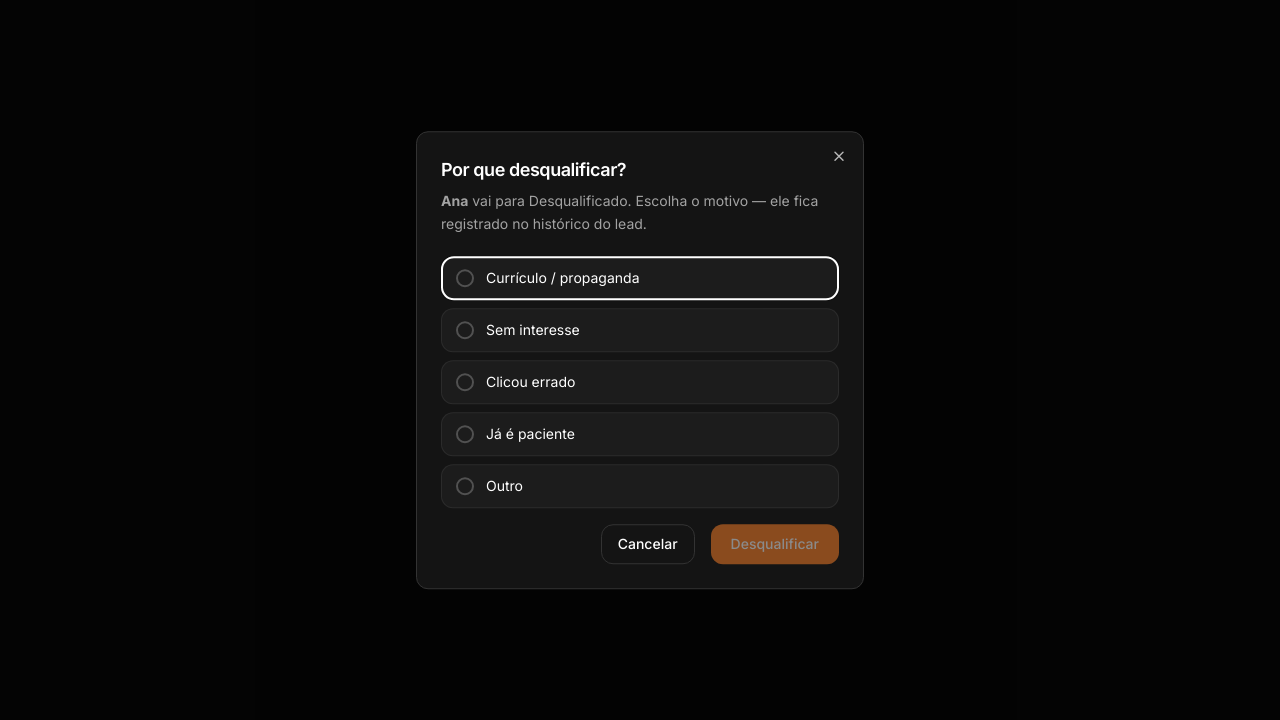
diálogo do motivo › só confirma com um motivo escolhido; 'Outro' exige texto
Later steps or results of the test are not shown.
expect the button "Desqualificar" is disabled: met, box top-left (711, 524), bottom-right (839, 564)
Click the radio button labelled "Outro" at x=504, y=485, box top-left (441, 464), bottom-right (839, 508)
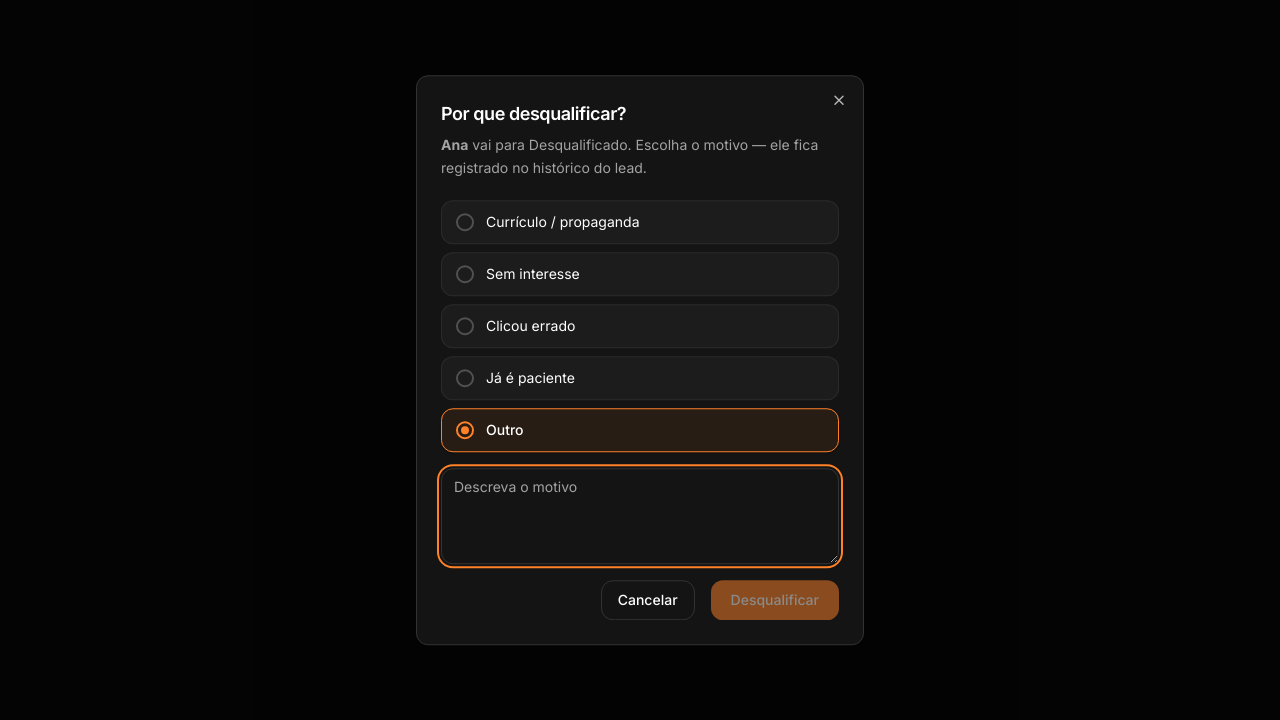
expect the button "Desqualificar" is disabled: met, box top-left (711, 580), bottom-right (839, 620)
Type "Número de outra cidade" into the text box with placeholder "Descreva o motivo" at x=640, y=516, box top-left (441, 468), bottom-right (839, 564)
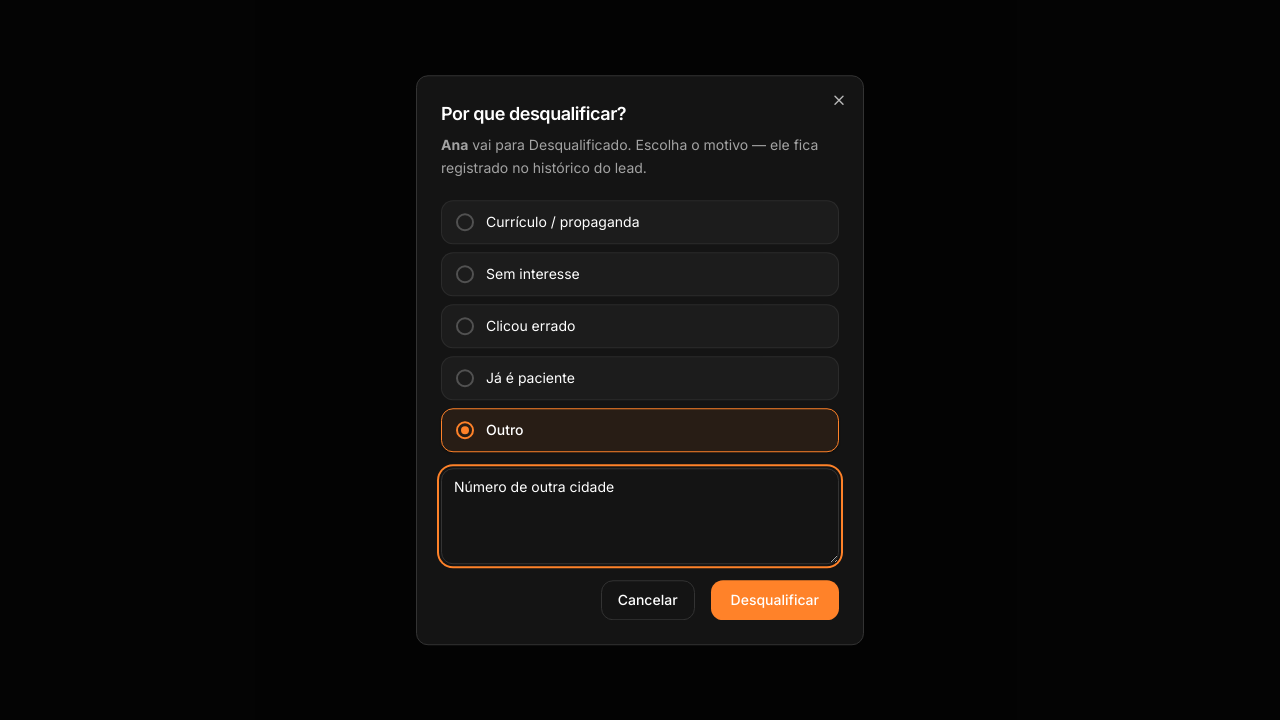
expect the button "Desqualificar" is enabled: met, box top-left (711, 580), bottom-right (839, 620)
